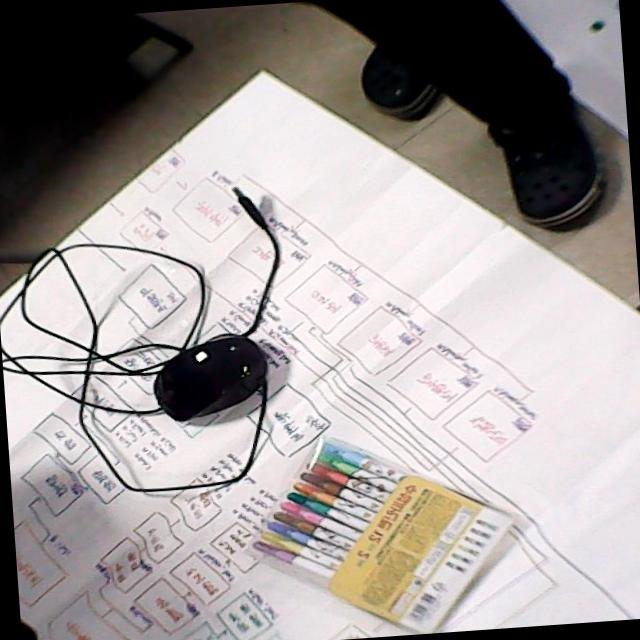mouse: (145, 326, 276, 428)
signpen: (236, 425, 534, 632)
